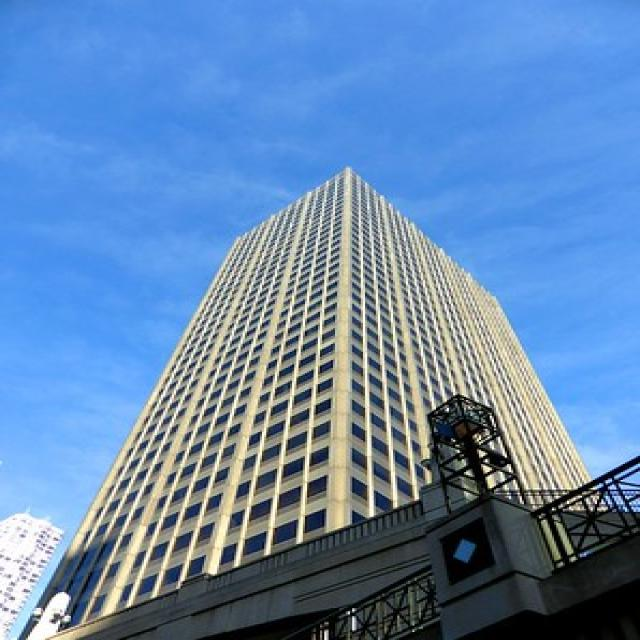building: (42, 162, 613, 630)
